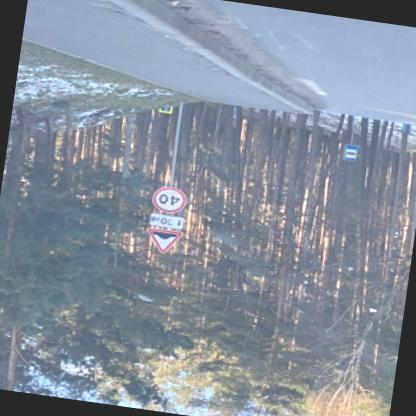speedlimit: (152, 186, 190, 216)
